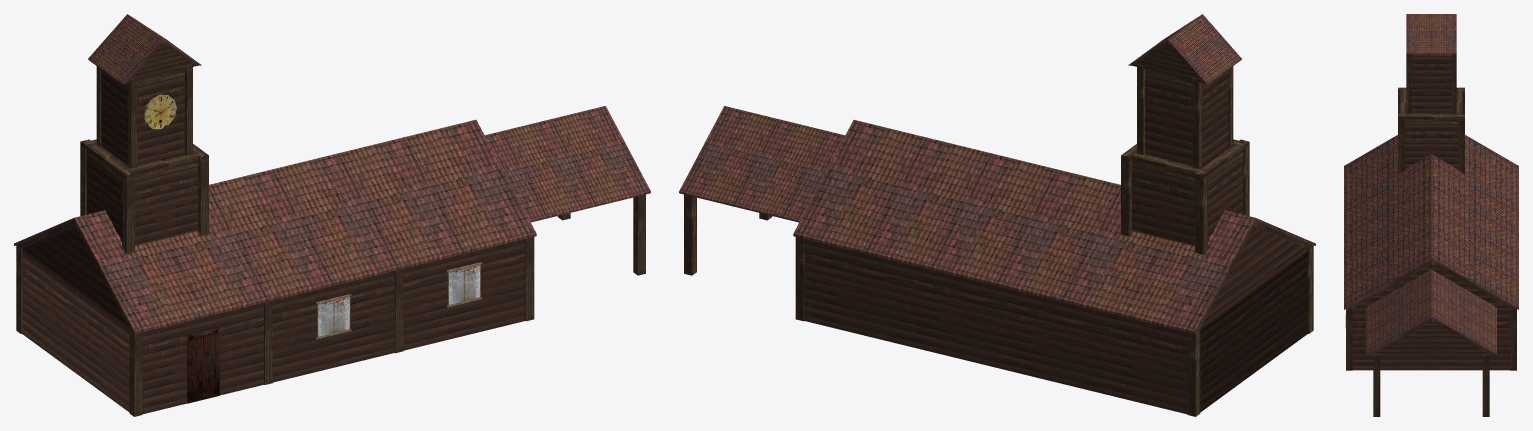
File: Train_Station.fbx
The picture shows the model from 3 angles, left to right: view 1: azimuth 30°, elevation 25°; view 2: azimuth 150°, elevation 25°; view 3: azimuth 270°, elevation 25°; orthographic projection. The views are drawn at different scales.
Visible parts, largest first — view 1: Train_Station; view 2: Train_Station; view 3: Train_Station.
Part boxes in pixels (bbox=[...]): Train_Station: bbox=[14, 14, 650, 416]; Train_Station: bbox=[679, 14, 1315, 416]; Train_Station: bbox=[1344, 14, 1518, 416].
Size of the model in its own units: 1628 by 966 by 639.
Materials: 7 (7 with a texture image).
